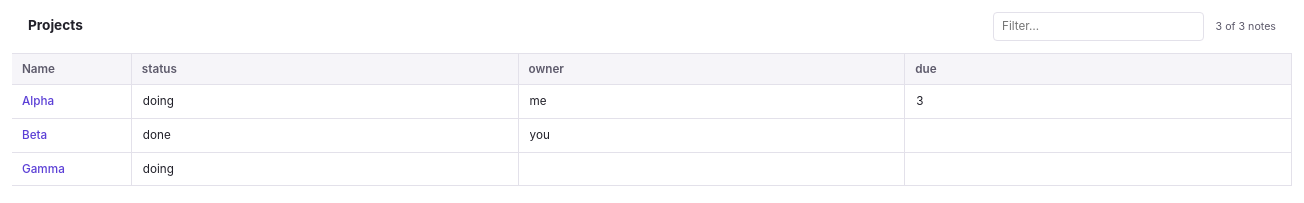
Scenario: a folder as a table › filters on the name and on any value, and says how many are left
This screenshot has width=1304, height=203.
Type "done" into the search field named "Filter the table" at {"x": 1098, "y": 26}, box [993,12,1204,41]
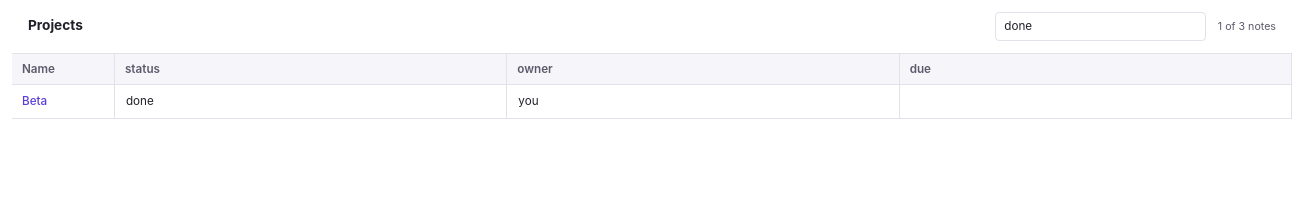
Expected: the text "1 of 3 notes" is shown, [1218,18,1276,35]
Replace the text in the search field named "Filter the table" with "zzz" at {"x": 1100, "y": 26}, box [995,12,1206,41]
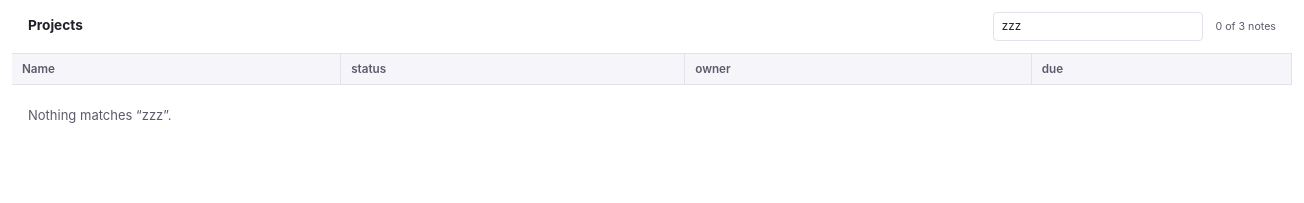
Expected: the text "Nothing matches “zzz”." is shown, [28,107,172,123]
